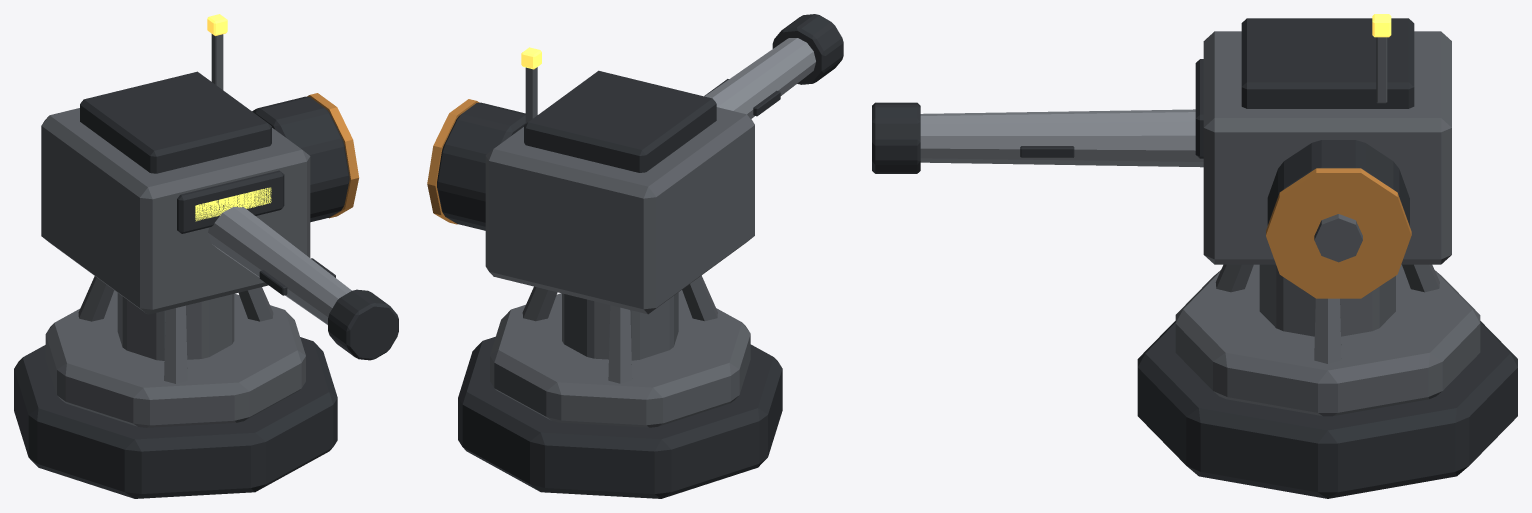
The model's file is turret.glb.
3 views of the same model, side by side, from view 1: azimuth 30°, elevation 25°; view 2: azimuth 150°, elevation 25°; view 3: azimuth 270°, elevation 25° (orthographic). The views are drawn at different scales.
Visible parts, largest first — view 1: Turret_Head, Turret_Base, Turret_BaseRing, Turret_HeadTop, Turret_Barrel, Turret_Drum, Turret_Pedestal, Turret_Muzzle, Turret_EyeHousing, Turret_Strut_2, Turret_DrumRing, Turret_Eye (+3 smaller); view 2: Turret_Head, Turret_Base, Turret_BaseRing, Turret_HeadTop, Turret_Drum, Turret_Pedestal, Turret_Barrel, Turret_Muzzle, Turret_Strut_1, Turret_DrumRing, Turret_Strut_2, Turret_Strut_0 (+1 smaller); view 3: Turret_Base, Turret_Head, Turret_BaseRing, Turret_HeadTop, Turret_Barrel, Turret_DrumRing, Turret_Pedestal, Turret_Drum, Turret_Muzzle, Turret_DrumHub, Turret_Strut_0, Turret_EyeHousing (+3 smaller).
Boxes of the visible parts, bbox=[...] form: Turret_Head: bbox=[41, 108, 310, 314]; Turret_Base: bbox=[14, 337, 337, 498]; Turret_BaseRing: bbox=[45, 290, 305, 427]; Turret_HeadTop: bbox=[80, 71, 271, 173]; Turret_Barrel: bbox=[208, 207, 351, 324]; Turret_Drum: bbox=[252, 96, 349, 222]; Turret_Pedestal: bbox=[117, 293, 234, 360]; Turret_Muzzle: bbox=[328, 289, 398, 360]; Turret_EyeHousing: bbox=[177, 170, 284, 233]; Turret_Strut_2: bbox=[164, 305, 187, 383]; Turret_DrumRing: bbox=[307, 93, 359, 218]; Turret_Eye: bbox=[195, 187, 271, 221]; Turret_Head: bbox=[485, 107, 754, 314]; Turret_Base: bbox=[458, 336, 782, 498]; Turret_BaseRing: bbox=[490, 290, 750, 427]; Turret_HeadTop: bbox=[524, 70, 716, 172]; Turret_Drum: bbox=[437, 102, 525, 230]; Turret_Pedestal: bbox=[562, 292, 678, 360]; Turret_Barrel: bbox=[704, 38, 815, 118]; Turret_Muzzle: bbox=[772, 14, 843, 84]; Turret_Strut_1: bbox=[608, 305, 632, 383]; Turret_DrumRing: bbox=[427, 99, 479, 224]; Turret_Strut_2: bbox=[682, 275, 717, 321]; Turret_Strut_0: bbox=[522, 286, 557, 321]; Turret_Base: bbox=[1137, 321, 1517, 498]; Turret_Head: bbox=[1203, 31, 1451, 264]; Turret_BaseRing: bbox=[1175, 264, 1480, 416]; Turret_HeadTop: bbox=[1241, 18, 1414, 108]; Turret_Barrel: bbox=[920, 109, 1203, 167]; Turret_DrumRing: bbox=[1266, 168, 1411, 298]; Turret_Pedestal: bbox=[1259, 264, 1395, 336]; Turret_Drum: bbox=[1267, 140, 1409, 226]; Turret_Muzzle: bbox=[872, 102, 920, 173]; Turret_DrumHub: bbox=[1314, 214, 1362, 262]; Turret_Strut_0: bbox=[1314, 298, 1341, 363]; Turret_EyeHousing: bbox=[1195, 59, 1203, 158].
Bounding box in the file's own units: 0.7573 × 0.9025 × 1.2.
